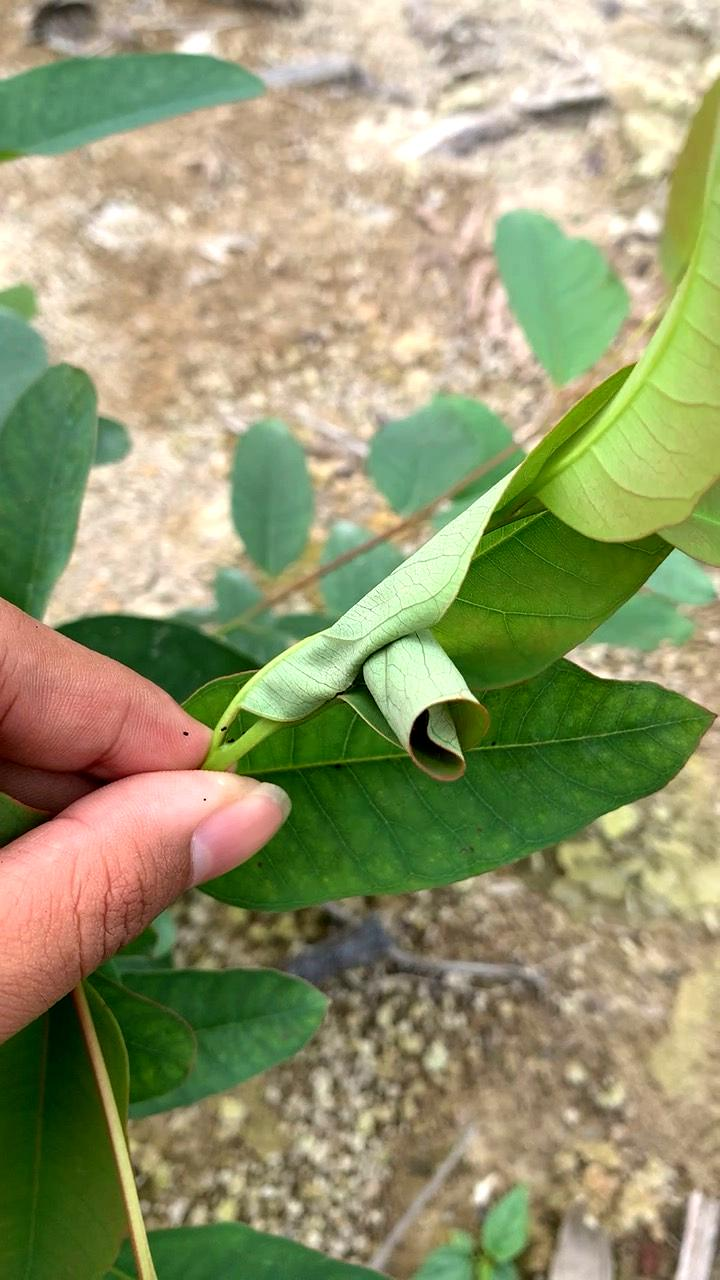Leaf Roller - Leaf: (246, 516, 517, 800)
